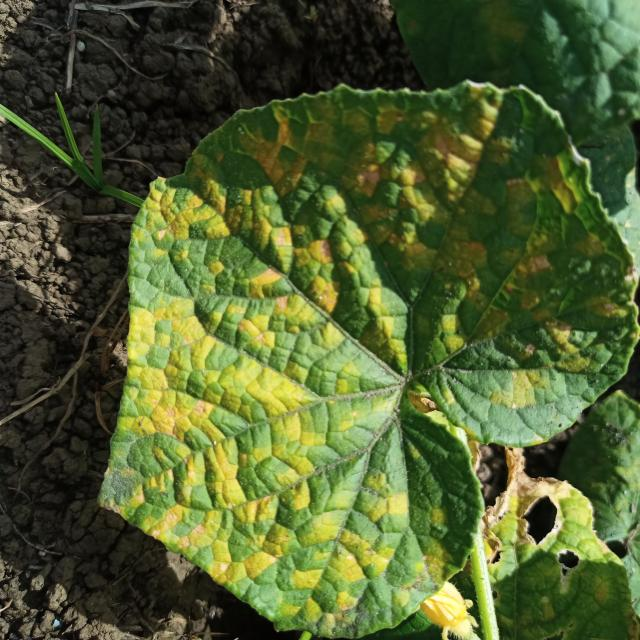disease_cucumber: (118, 93, 605, 608)
